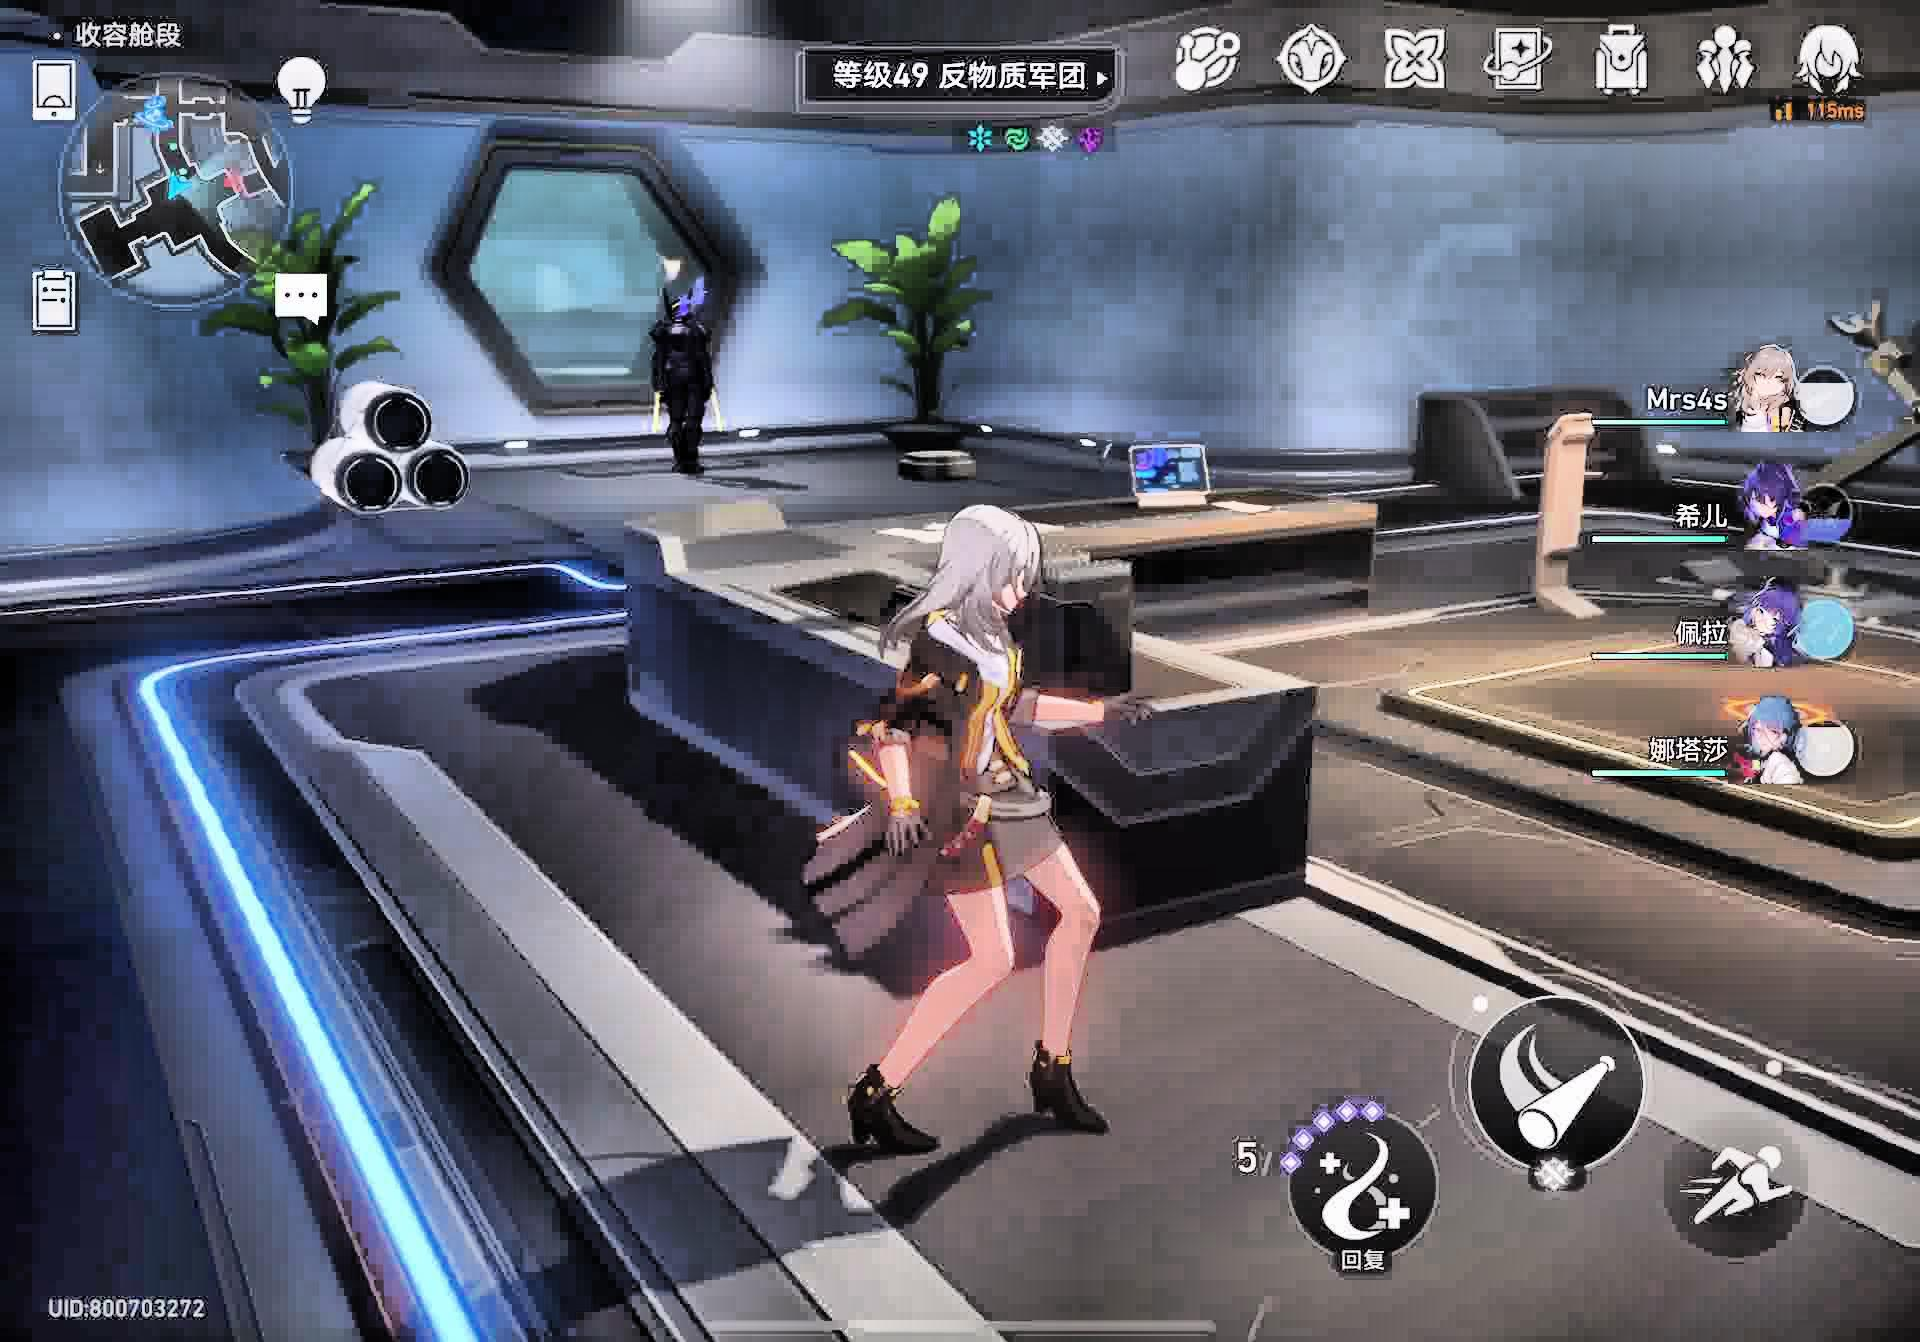Box: (303, 381, 462, 518)
Enemy: (645, 292, 721, 486)
Self: (813, 502, 1122, 1164)
